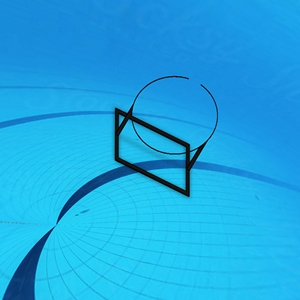circle: (112, 73, 224, 200)
